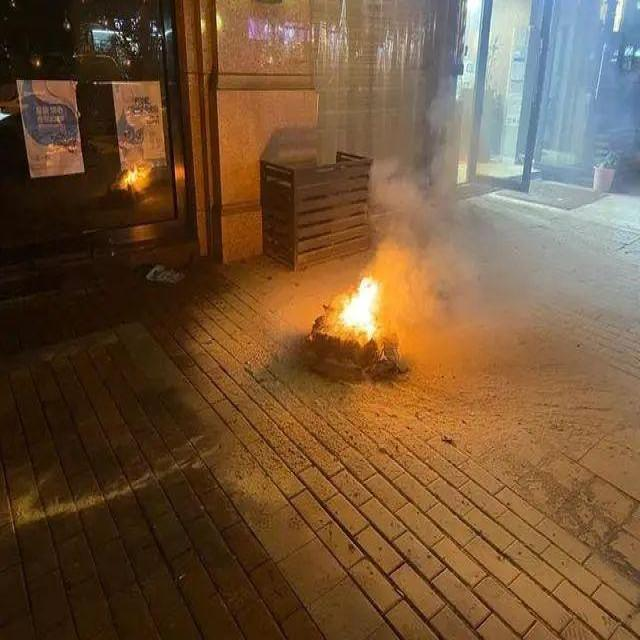Fire: (340, 277, 378, 334)
Smoke: (378, 87, 486, 296)
